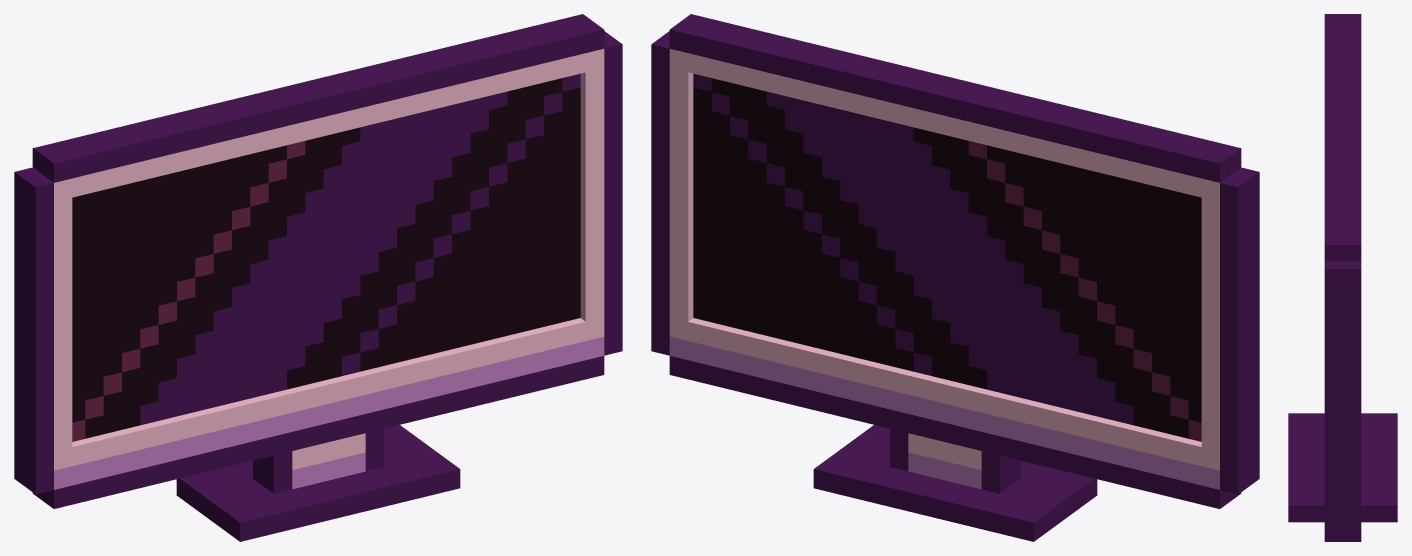
The model's file is computer.glb.
3 views of the same model, side by side, from view 1: azimuth 30°, elevation 25°; view 2: azimuth 150°, elevation 25°; view 3: azimuth 270°, elevation 25° (orthographic). The views are drawn at different scales.
Parts seen in each view (by area): view 1: generated(Clone); view 2: generated(Clone); view 3: generated(Clone).
Part boxes in pixels (left/top/right/bottom): generated(Clone): left=14, top=14, right=622, bottom=541; generated(Clone): left=651, top=14, right=1259, bottom=541; generated(Clone): left=1288, top=14, right=1397, bottom=541.
Size of the model in its own units: 32 by 21 by 6.
Materials: 1 (1 with a texture image).
